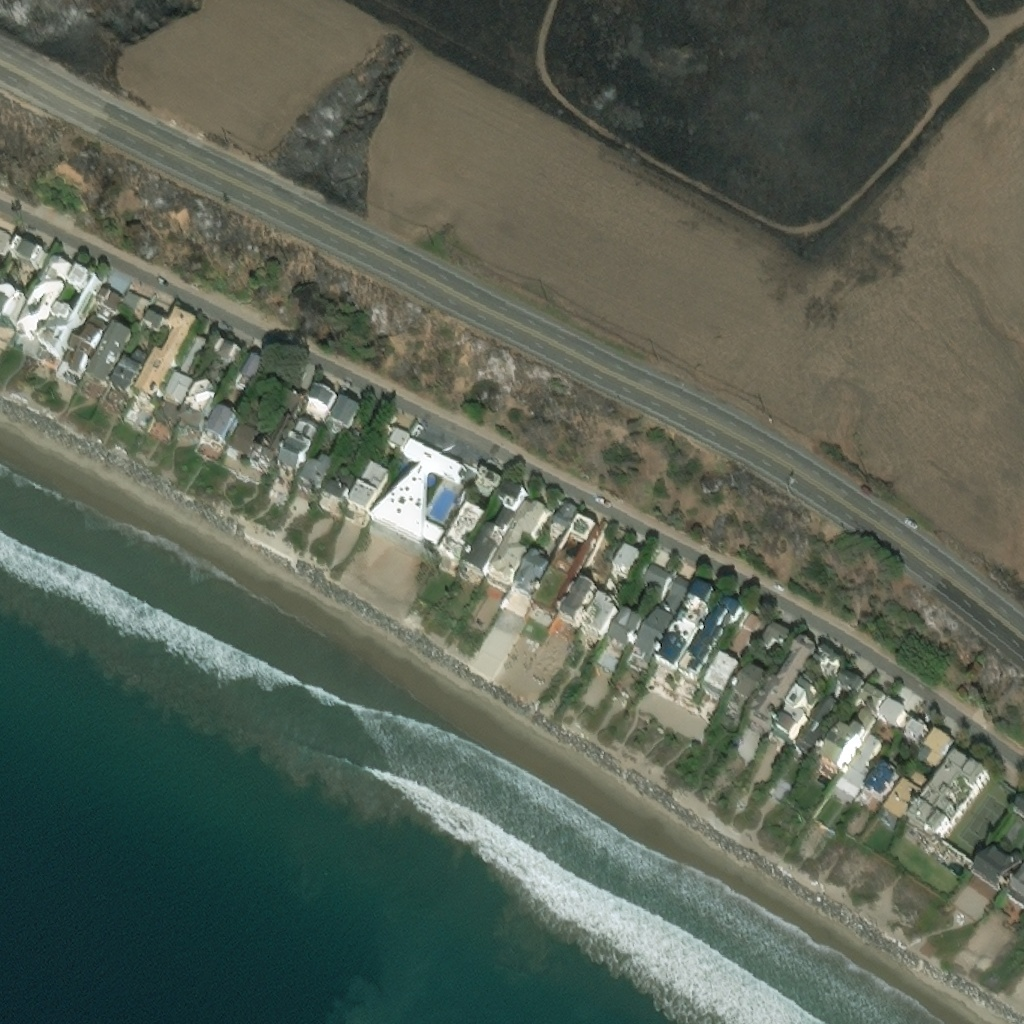0 no-damage: (899, 751, 983, 874), (368, 438, 464, 545), (531, 514, 601, 618), (32, 264, 98, 366), (628, 558, 692, 661), (9, 255, 74, 353), (460, 480, 528, 573), (674, 594, 743, 685), (816, 681, 886, 769), (748, 634, 817, 723), (483, 499, 547, 589), (134, 307, 195, 399), (654, 579, 716, 668), (276, 383, 337, 473), (247, 391, 303, 471), (497, 544, 550, 617), (829, 729, 882, 801), (53, 313, 105, 382), (591, 604, 641, 670), (770, 674, 822, 737), (436, 501, 486, 564), (82, 320, 131, 383), (790, 694, 838, 758), (343, 459, 390, 523), (195, 401, 239, 460), (881, 767, 928, 818), (969, 841, 1017, 890), (722, 608, 765, 660), (153, 371, 195, 422), (176, 379, 216, 432), (108, 345, 148, 396), (558, 574, 597, 623), (724, 661, 766, 706), (699, 651, 740, 697), (860, 758, 899, 800), (580, 591, 616, 635), (325, 395, 360, 435), (224, 419, 260, 457), (297, 453, 332, 492), (922, 727, 952, 767), (609, 540, 641, 577), (0, 284, 26, 326), (811, 643, 843, 677), (233, 353, 262, 390), (177, 333, 204, 372), (322, 471, 355, 501), (8, 236, 41, 265), (757, 619, 790, 648), (94, 284, 121, 319), (1003, 861, 1023, 907), (833, 666, 865, 694), (120, 288, 148, 317), (551, 499, 578, 529), (473, 468, 500, 495), (876, 697, 903, 724), (212, 337, 240, 362), (387, 424, 409, 449), (140, 309, 164, 330), (906, 718, 923, 736), (0, 228, 12, 251), (1012, 793, 1023, 814)
